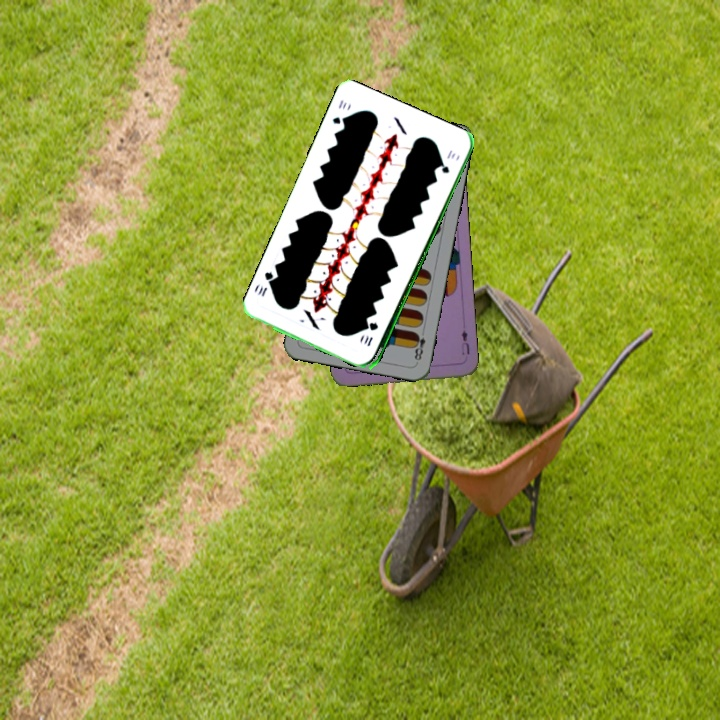E8: (409, 325, 428, 365)
EU: (457, 326, 472, 357)
G10: (329, 96, 349, 127), (363, 318, 381, 349)
